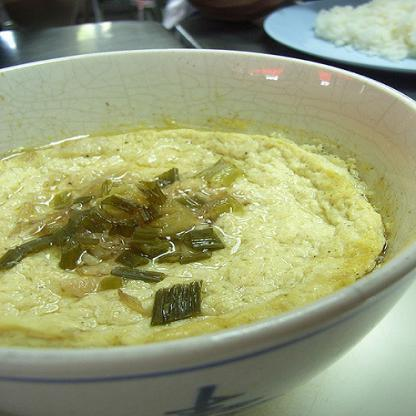Kaithoon: (0, 116, 394, 371)
